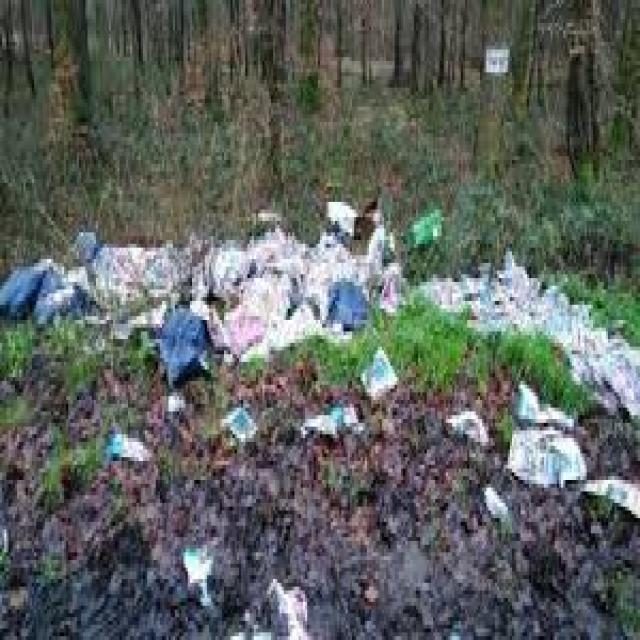garbage: (0, 223, 640, 447)
